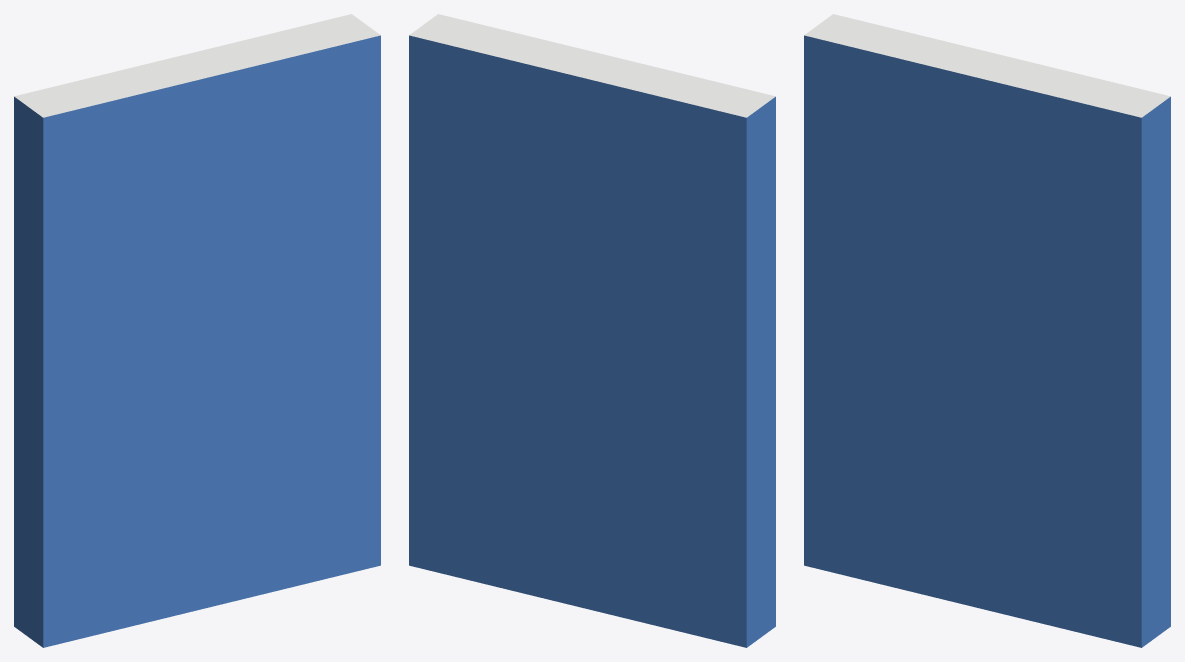
The model's file is parede_complemento_1_5m_1m.glb.
3 views of the same model, side by side, from view 1: azimuth 30°, elevation 25°; view 2: azimuth 150°, elevation 25°; view 3: azimuth 330°, elevation 25° (orthographic).
Visible parts, largest first — view 1: parede_complemento_1_5m_1m; view 2: parede_complemento_1_5m_1m; view 3: parede_complemento_1_5m_1m.
Boxes of the visible parts, box(x1,y1,x2,y2) form: parede_complemento_1_5m_1m: box(14, 14, 380, 647); parede_complemento_1_5m_1m: box(409, 14, 775, 647); parede_complemento_1_5m_1m: box(804, 14, 1170, 647).
Size of the model in its own units: 1 by 1.5 by 0.15.
